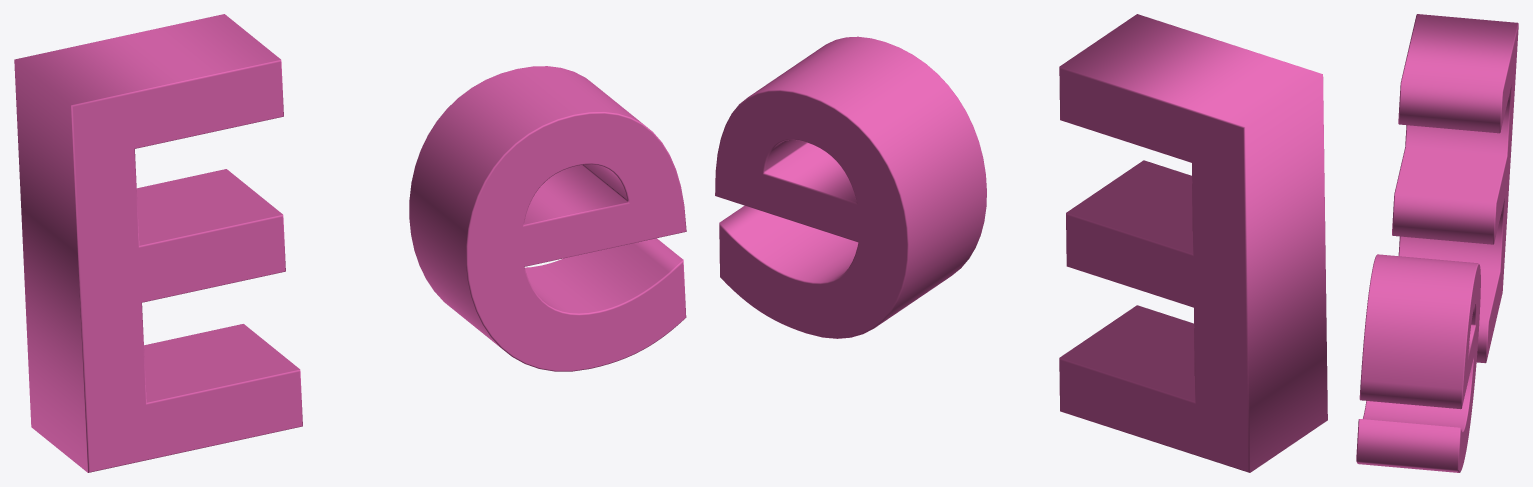
Rendered from ObjectE.fbx.
3 views of the same model, side by side, from view 1: azimuth 30°, elevation 25°; view 2: azimuth 150°, elevation 25°; view 3: azimuth 270°, elevation 25° (orthographic). The views are drawn at different scales.
Parts seen in each view (by area): view 1: Text; view 2: Text; view 3: Text.
Boxes of the visible parts, left/top/right/bottom form: Text: left=14, top=14, right=686, bottom=472; Text: left=715, top=14, right=1327, bottom=472; Text: left=1356, top=14, right=1518, bottom=472.
Bounding box in the file's own units: 300 × 182 × 96.88.
